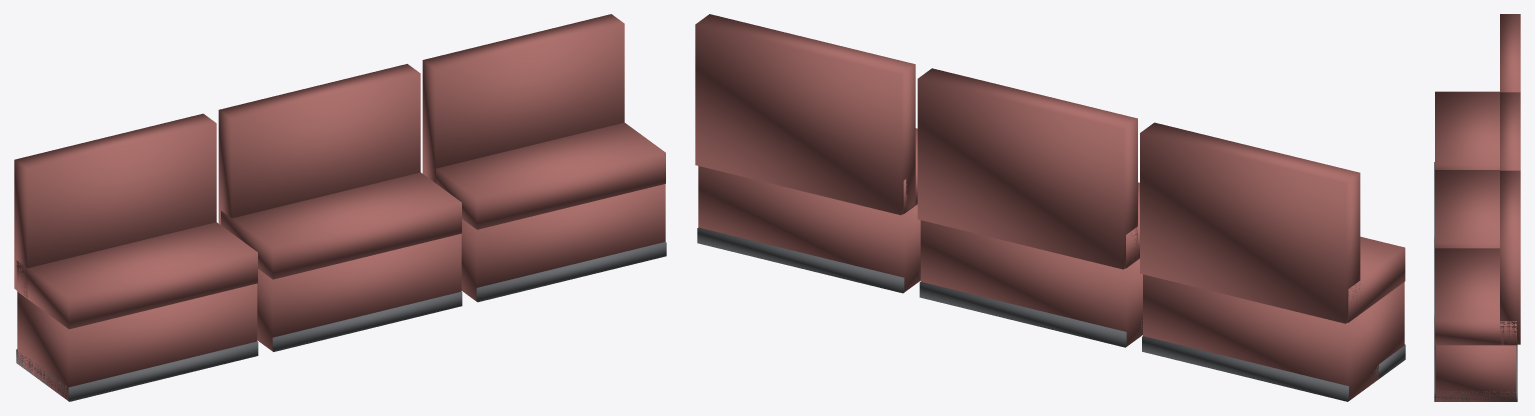
File: diner_booth_single__cluster.glb
3 views of the same model, side by side, from view 1: azimuth 30°, elevation 25°; view 2: azimuth 150°, elevation 25°; view 3: azimuth 270°, elevation 25° (orthographic). The views are drawn at different scales.
Parts seen in each view (by area): view 1: world; view 2: world; view 3: world.
Part boxes in pixels (x1=…): world: x1=14, y1=14, x2=666, y2=401; world: x1=695, y1=14, x2=1405, y2=401; world: x1=1434, y1=14, x2=1520, y2=401.
Size of the model in its own units: 3.63 by 1.17 by 0.58.
